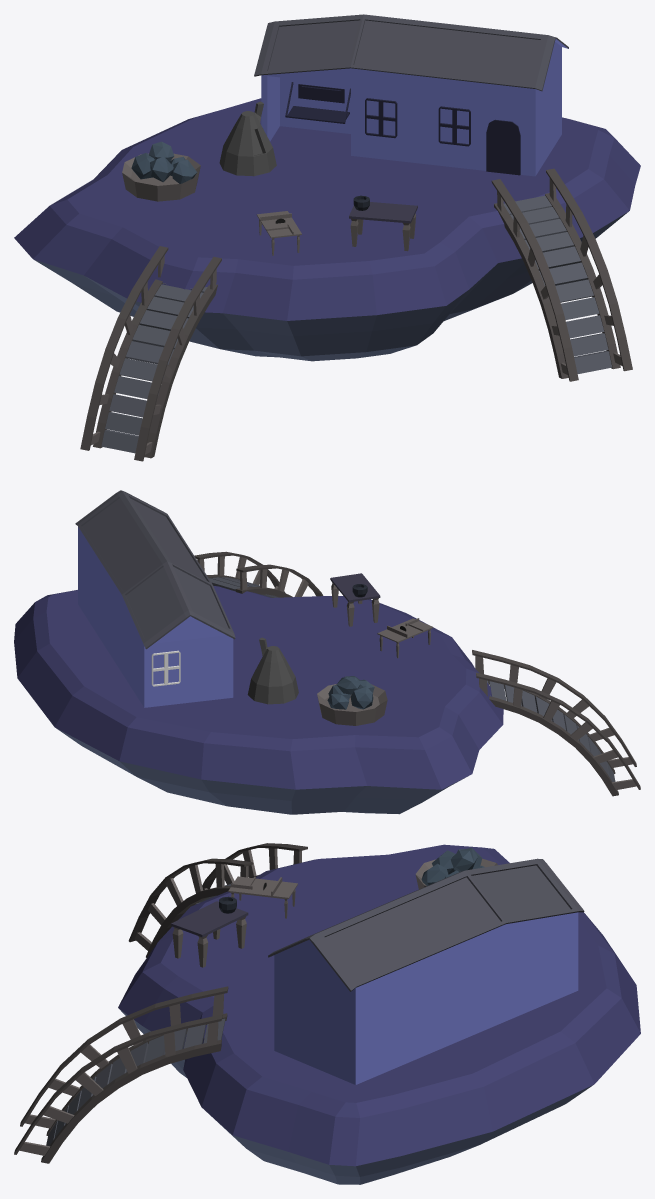
File: Мастерская.fbx
The picture shows the model from 3 angles, top to bottom: view 1: azimuth 30°, elevation 25°; view 2: azimuth 150°, elevation 25°; view 3: azimuth 270°, elevation 25°; orthographic projection. The views are drawn at different scales.
Visible parts, largest first — view 1: Plane.017, Cube.098, Cube.105, Cube.109, Cube.108, Cube.104, Cube.099, Cube.106, Circle.007, Plane.009, Circle.006, Cube.107 (+6 smaller); view 2: Plane.017, Cube.098, Circle.007, Cube.107, Cube.108, Cube.106, Circle.006, Cube.109, Cube.103, Circle.009, Cube.104, Cube.093 (+2 smaller); view 3: Plane.017, Cube.098, Cube.103, Cube.104, Cube.099, Cube.105, Cube.107, Cube.108, Cube.093, Circle.009, Cube.106, Cube.094.
Boxes of the visible parts, <box> form: Plane.017: <box>14,98,640,361</box>; Cube.098: <box>254,14,568,176</box>; Cube.105: <box>503,195,612,373</box>; Cube.109: <box>101,283,207,453</box>; Cube.108: <box>80,246,221,461</box>; Cube.104: <box>491,168,632,381</box>; Cube.099: <box>494,193,620,378</box>; Cube.106: <box>93,279,217,458</box>; Circle.007: <box>219,101,276,176</box>; Plane.009: <box>486,119,520,175</box>; Circle.006: <box>122,153,200,201</box>; Cube.107: <box>90,255,216,454</box>; Plane.017: <box>14,586,503,814</box>; Cube.098: <box>75,490,235,707</box>; Circle.007: <box>247,637,298,704</box>; Cube.107: <box>475,656,636,789</box>; Cube.108: <box>472,650,640,789</box>; Cube.106: <box>484,674,618,796</box>; Circle.006: <box>317,684,387,725</box>; Cube.109: <box>487,680,615,781</box>; Cube.103: <box>197,556,308,596</box>; Circle.009: <box>377,618,433,658</box>; Cube.104: <box>194,551,323,596</box>; Cube.093: <box>330,573,380,602</box>; Plane.017: <box>118,844,640,1184</box>; Cube.098: <box>268,858,584,1084</box>; Cube.103: <box>19,993,223,1155</box>; Cube.104: <box>14,986,228,1154</box>; Cube.099: <box>41,1013,227,1163</box>; Cube.105: <box>46,1018,225,1145</box>; Cube.107: <box>135,848,301,950</box>; Cube.108: <box>128,843,307,942</box>; Cube.093: <box>171,901,248,937</box>; Circle.009: <box>228,876,297,918</box>; Cube.106: <box>146,875,258,957</box>; Cube.094: <box>172,916,246,967</box>.
Bounding box in the file's own units: 853 × 330 × 666.
